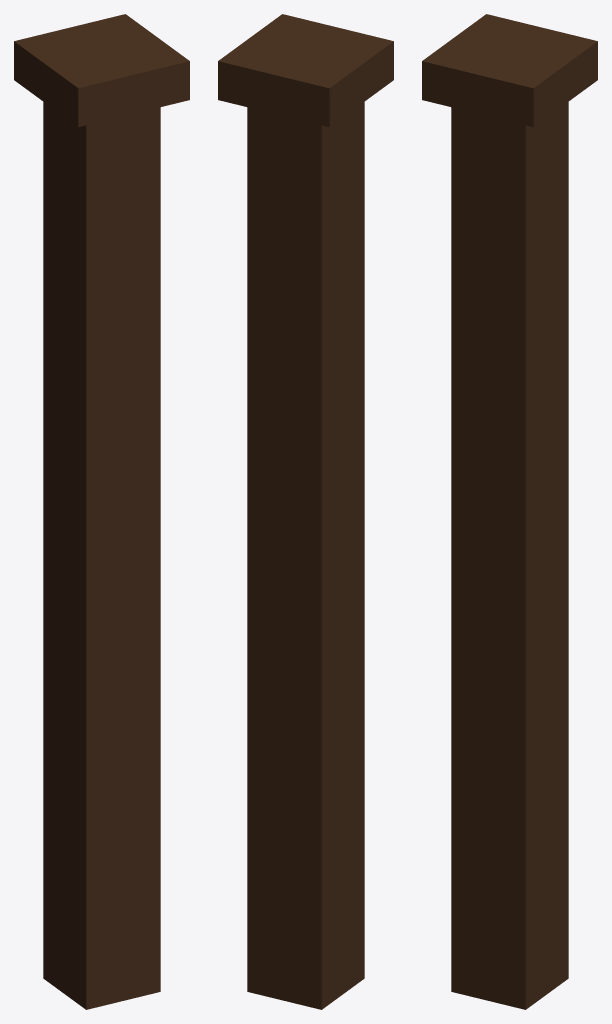
File: hanok_pillar_square.glb
3 views of the same model, side by side, from view 1: azimuth 30°, elevation 25°; view 2: azimuth 150°, elevation 25°; view 3: azimuth 330°, elevation 25° (orthographic).
Parts seen in each view (by area): view 1: hanok_pillar_square; view 2: hanok_pillar_square; view 3: hanok_pillar_square.
Part boxes in pixels (x1,y1,x2,y2): hanok_pillar_square: (14, 14, 189, 1009); hanok_pillar_square: (218, 14, 393, 1009); hanok_pillar_square: (422, 14, 597, 1009).
Size of the model in its own units: 0.3 by 2.4 by 0.3.
